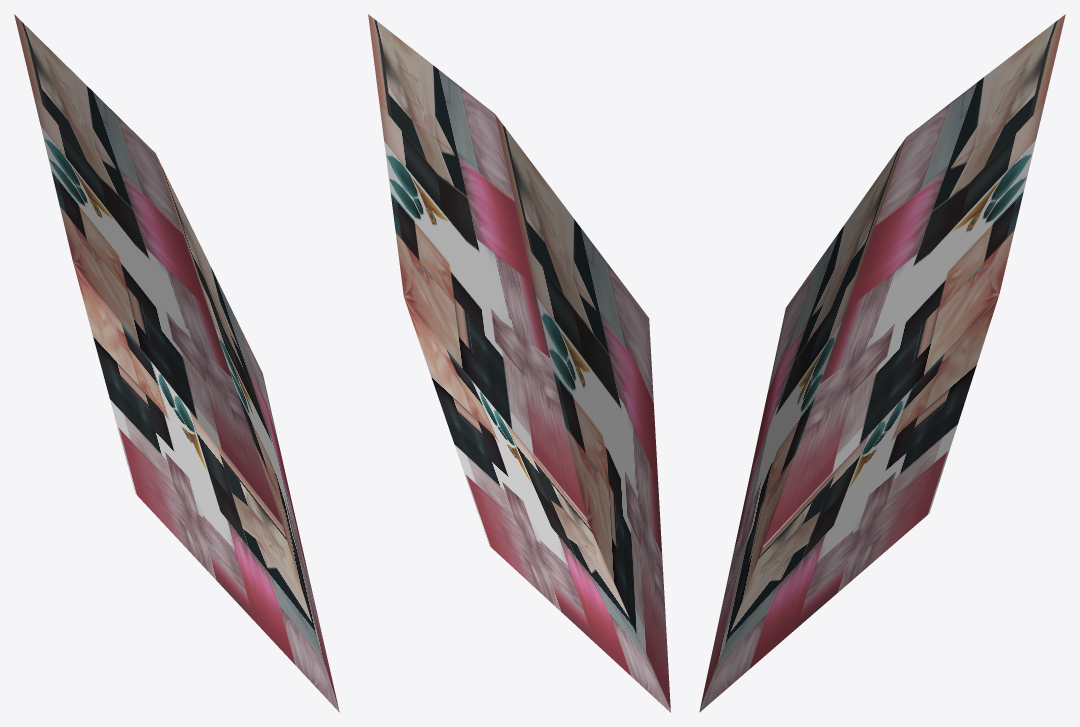
The model's file is judithWing.fbx.
3 views of the same model, side by side, from view 1: azimuth 90°, elevation 25°; view 2: azimuth 150°, elevation 25°; view 3: azimuth 270°, elevation 25° (orthographic). The views are drawn at different scales.
Parts seen in each view (by area): view 1: judithWing; view 2: judithWing; view 3: judithWing.
Part boxes in pixels (box(x1,y1,x2,y2)): judithWing: box(14, 14, 339, 712); judithWing: box(368, 14, 670, 712); judithWing: box(699, 14, 1065, 712).
Bounding box in the file's own units: 0.1343 × 0.8329 × 0.3725.
